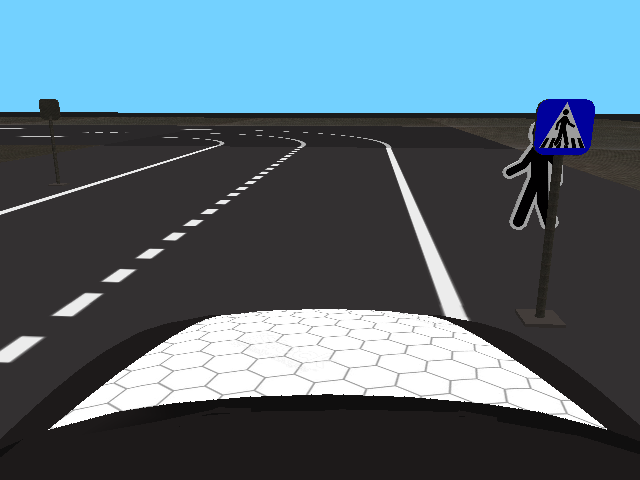pedestrian_cross: (533, 99, 593, 155)
